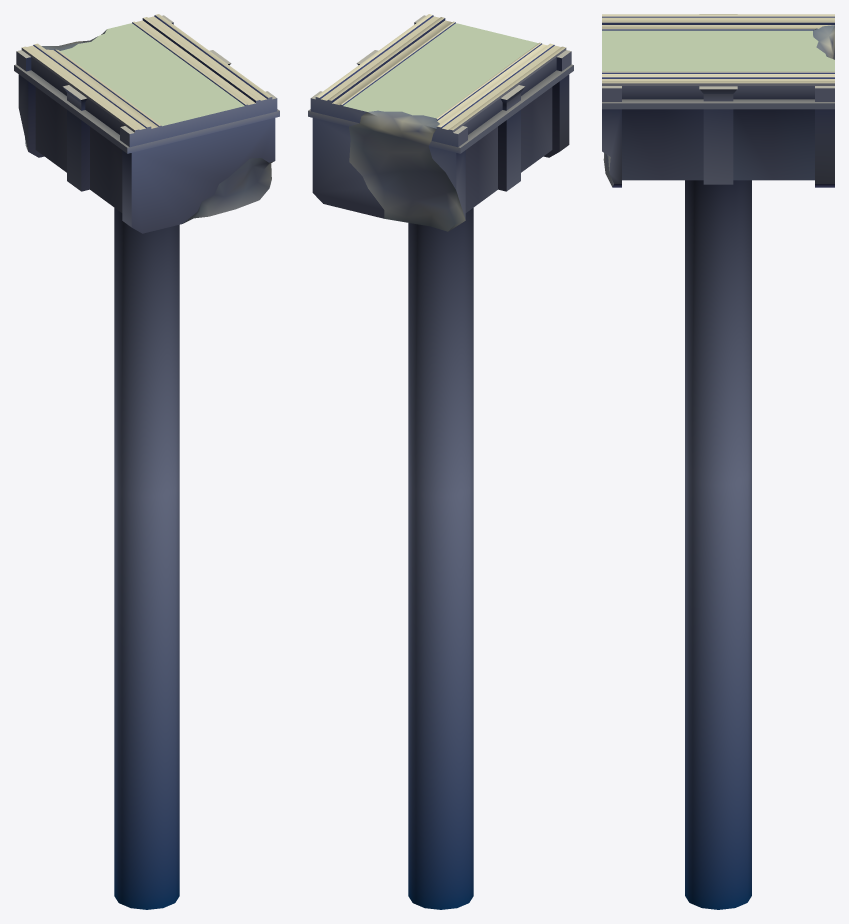
The model's file is BridgeOneLeg.gltf.
3 views of the same model, side by side, from view 1: azimuth 30°, elevation 25°; view 2: azimuth 150°, elevation 25°; view 3: azimuth 270°, elevation 25° (orthographic). The views are drawn at different scales.
Visible parts, largest first — view 1: BridgeOneLegMesh; view 2: BridgeOneLegMesh; view 3: BridgeOneLegMesh.
Part boxes in pixels (left/top/right/bottom): BridgeOneLegMesh: left=14, top=14, right=279, bottom=909; BridgeOneLegMesh: left=308, top=14, right=573, bottom=909; BridgeOneLegMesh: left=602, top=14, right=834, bottom=909.
Bounding box in the file's own units: 7.77 × 40.12 × 10.
